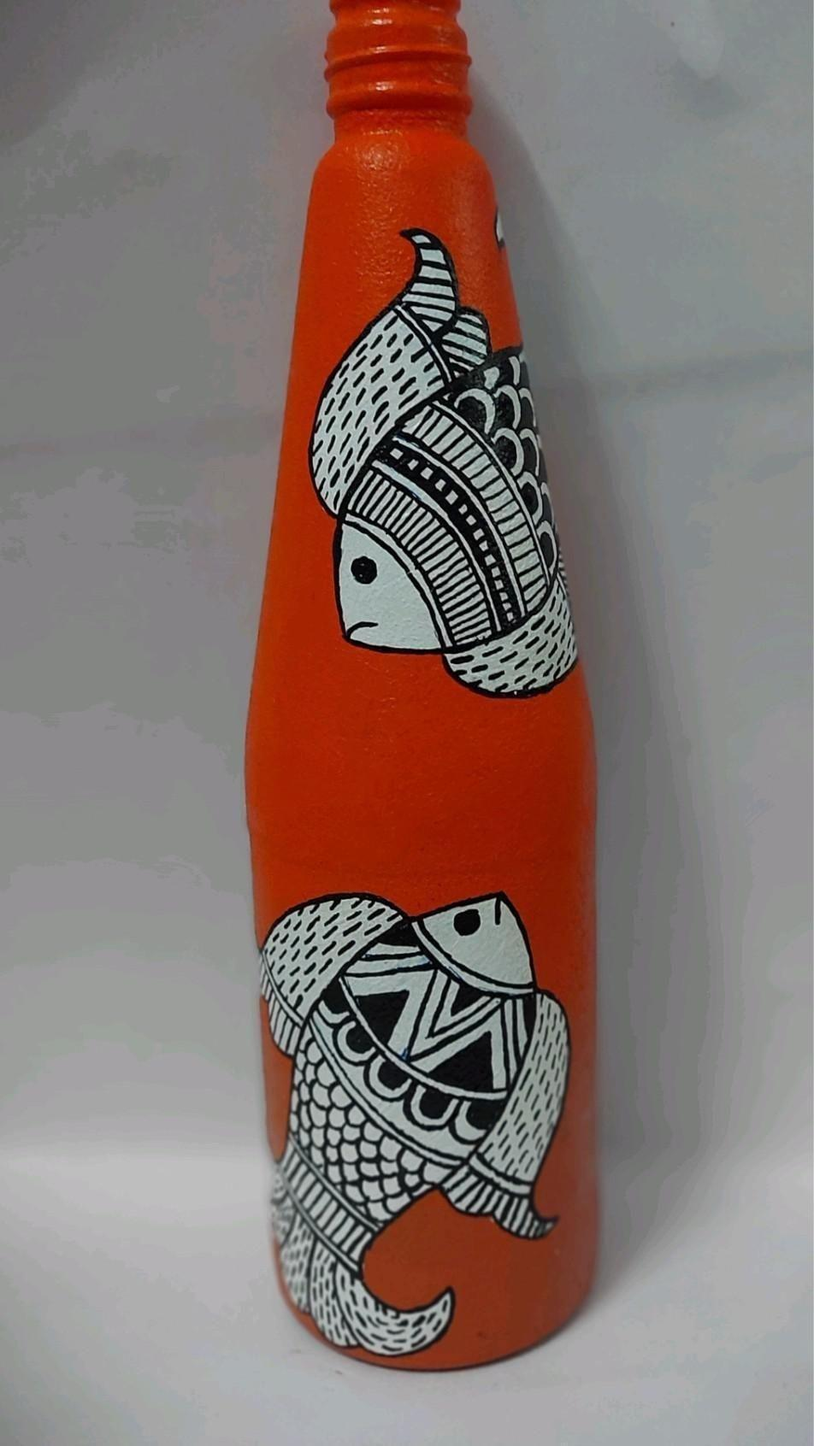bottle-glass: (236, 0, 606, 1373)
